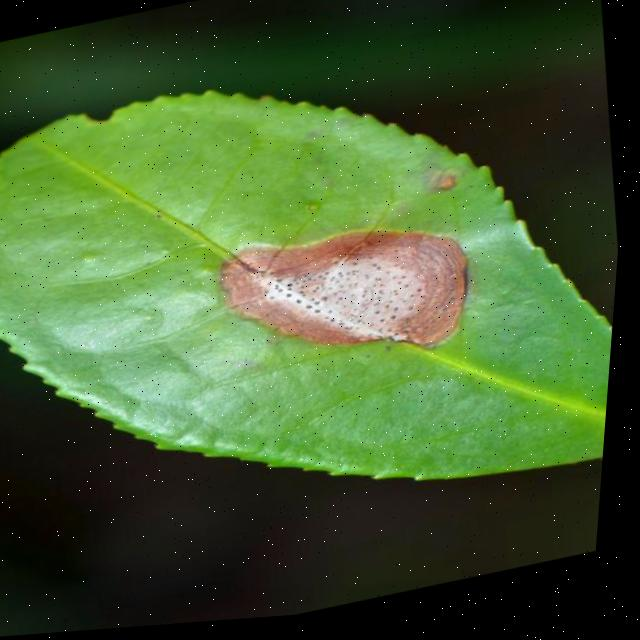Tea cloud leaf blight: (218, 215, 490, 392)
